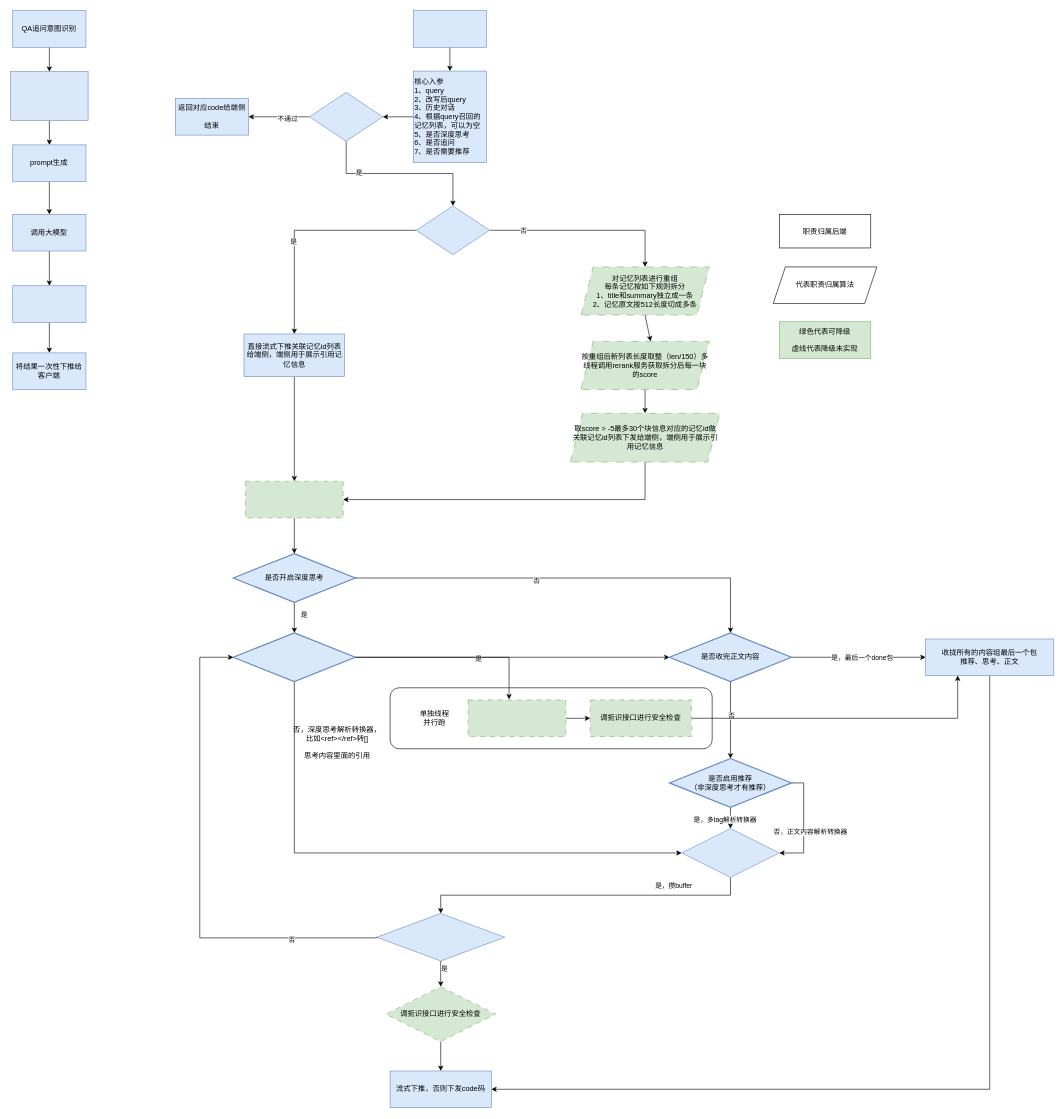
Image size: 1064x1119. Some labels were removed from this diagram. The shapes that lost their labels are listed below. From the top down, each one's centre as x and y in pixels, then its label:
pixel 449 28: QA对话接口
pixel 49 95: 核心入参 1、query 2、历史对话 3、根据query召回的记忆列表，可以为空
pixel 346 116: query安全检测 是否通过
pixel 453 230: 是否是追问
pixel 49 303: 解析拿到是否追问标记、query改写结果
pixel 294 499: 生成prompt 调用模型
pixel 294 657: 是否收完思考内容
pixel 517 718: 调用模型生成推荐query
pixel 730 852: 解析转换器是否返回内容
pixel 440 937: 达到xx个字符
